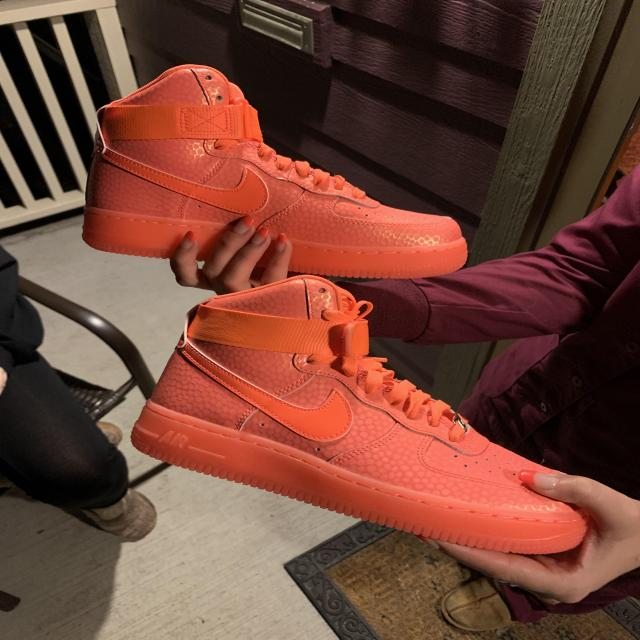shoe: (132, 279, 594, 555), (83, 60, 471, 280)
